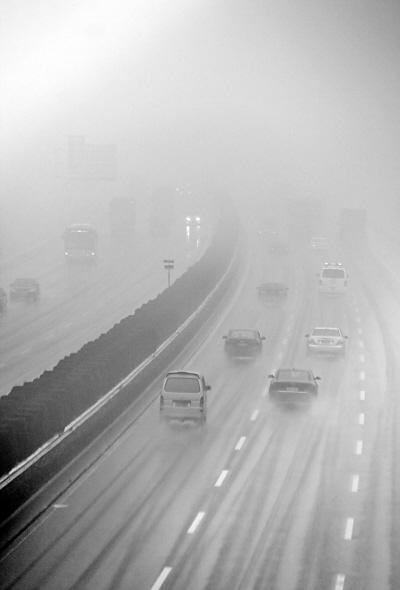bus: (61, 224, 99, 265), (109, 196, 137, 230)
car: (159, 370, 212, 428), (267, 367, 322, 410), (304, 326, 349, 361), (222, 328, 266, 363), (316, 262, 350, 296), (255, 281, 290, 305), (9, 277, 40, 303), (267, 238, 291, 256), (257, 224, 280, 242), (309, 236, 330, 253), (184, 210, 201, 226)
